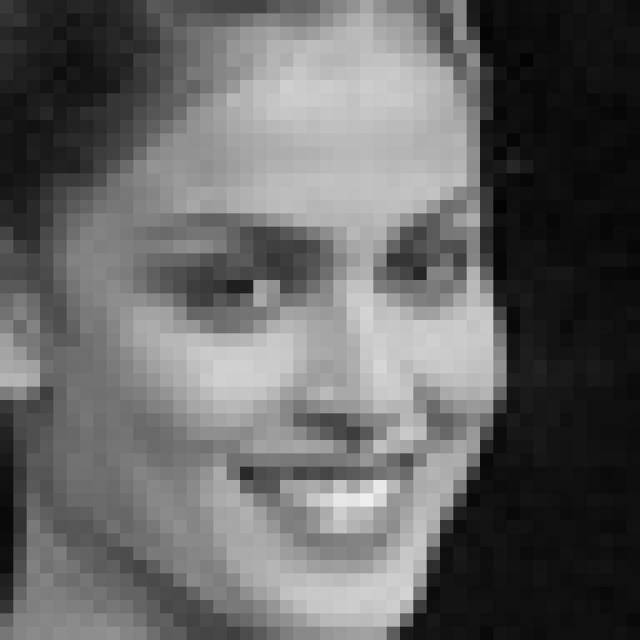happy: (129, 198, 486, 564)
